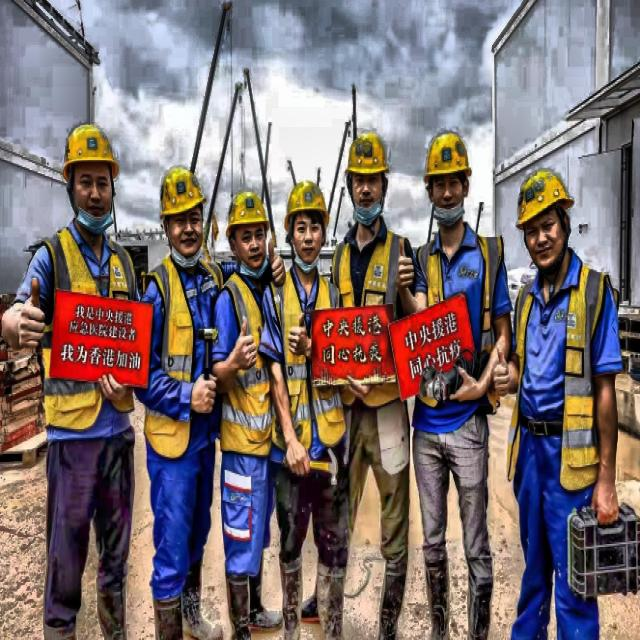safety_helmet: (514, 167, 576, 233), (60, 122, 121, 183), (422, 129, 473, 185), (158, 165, 208, 222), (224, 188, 272, 240), (344, 130, 391, 180), (287, 181, 333, 227)
safety_jacket: (504, 256, 615, 496), (37, 224, 141, 438), (416, 219, 503, 431), (152, 261, 232, 451), (271, 254, 340, 464), (332, 219, 402, 399), (222, 276, 274, 472)
